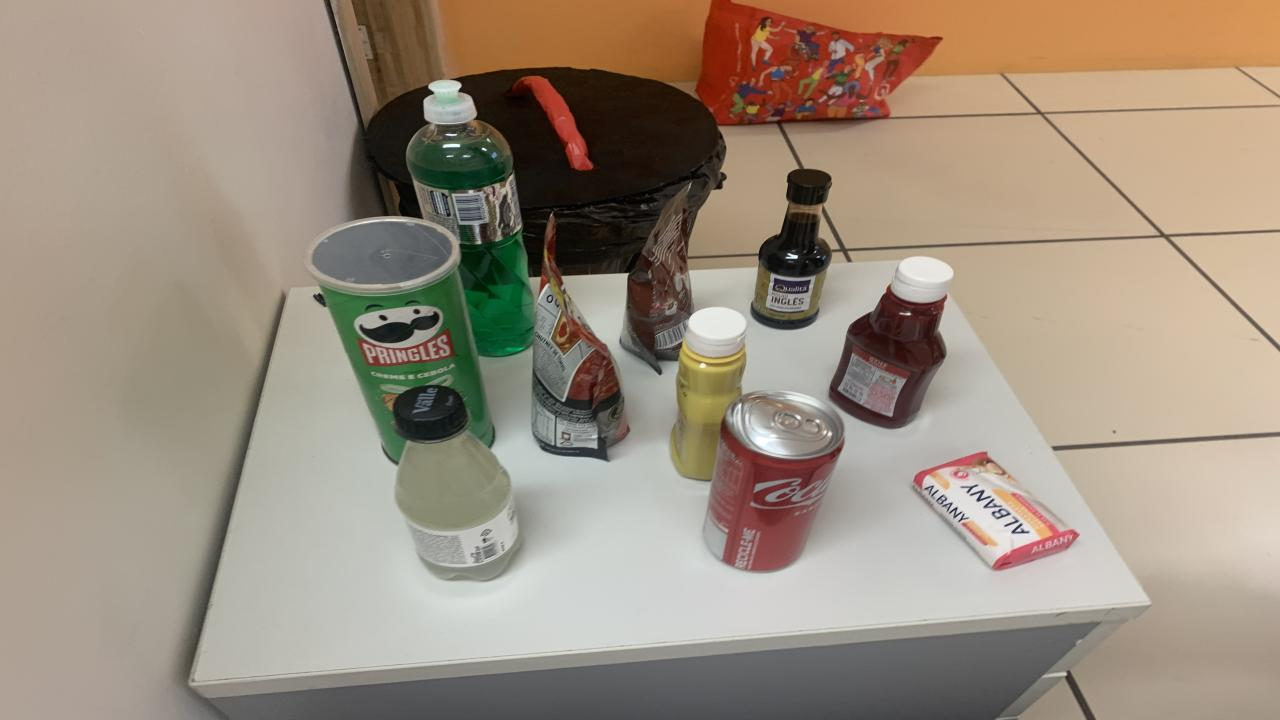Coffee-Pantry_Items: (620, 186, 692, 373)
Coke-Drinks: (702, 390, 845, 572)
Detergent-Cleanup_Items: (408, 81, 535, 356)
English_Sauce-Pantry_Items: (750, 169, 832, 330)
Ketchup-Pantry_Items: (830, 257, 952, 428)
Mustard-Pantry_Items: (670, 308, 748, 480)
Pringles-Snacks: (305, 218, 495, 461)
Soap-Cleanup_Items: (912, 452, 1078, 570)
Soda-Drinks: (392, 386, 520, 581)
Tomato_Sauce-Pantry_Items: (530, 219, 628, 459)
